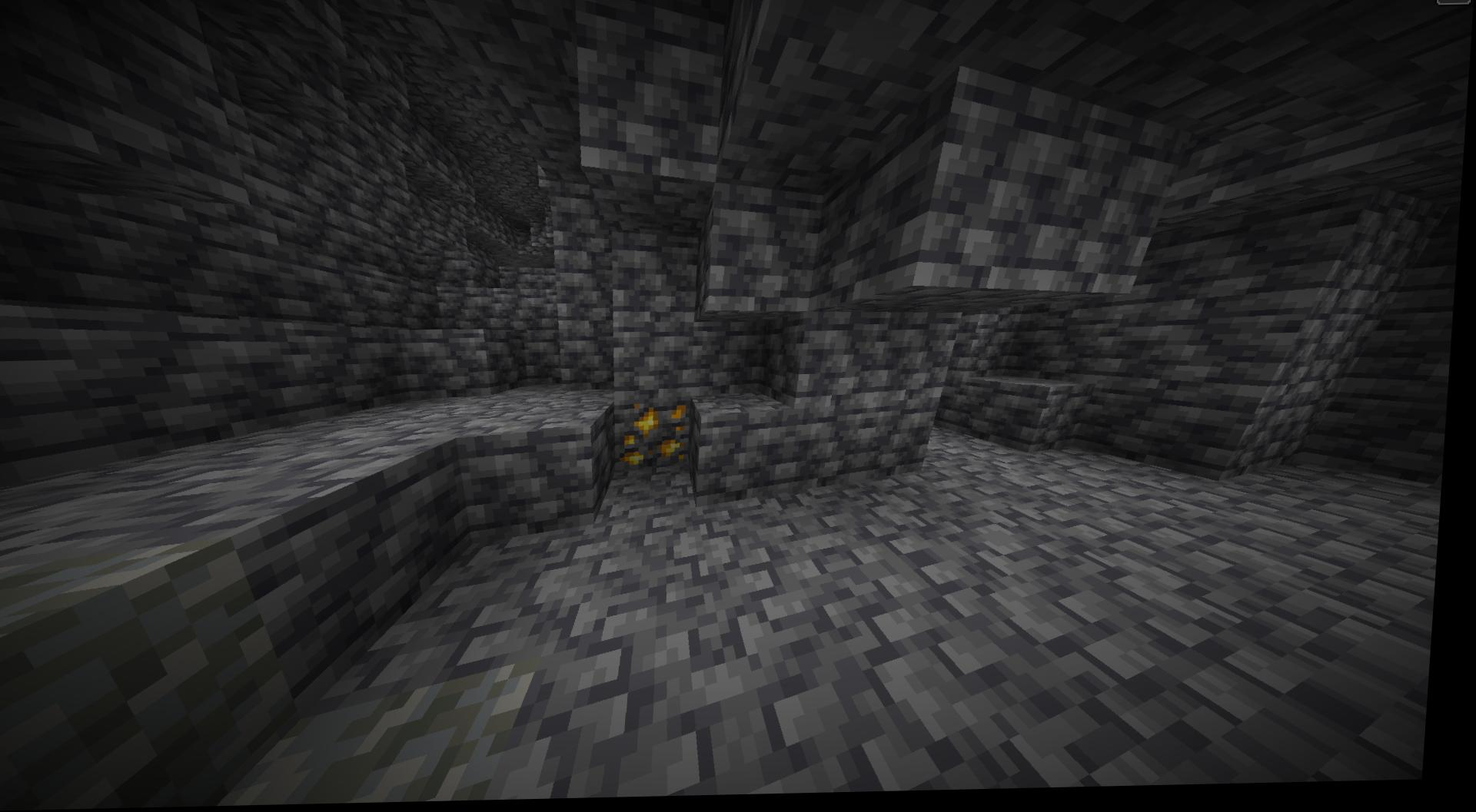gold ore: (617, 399, 701, 471)
